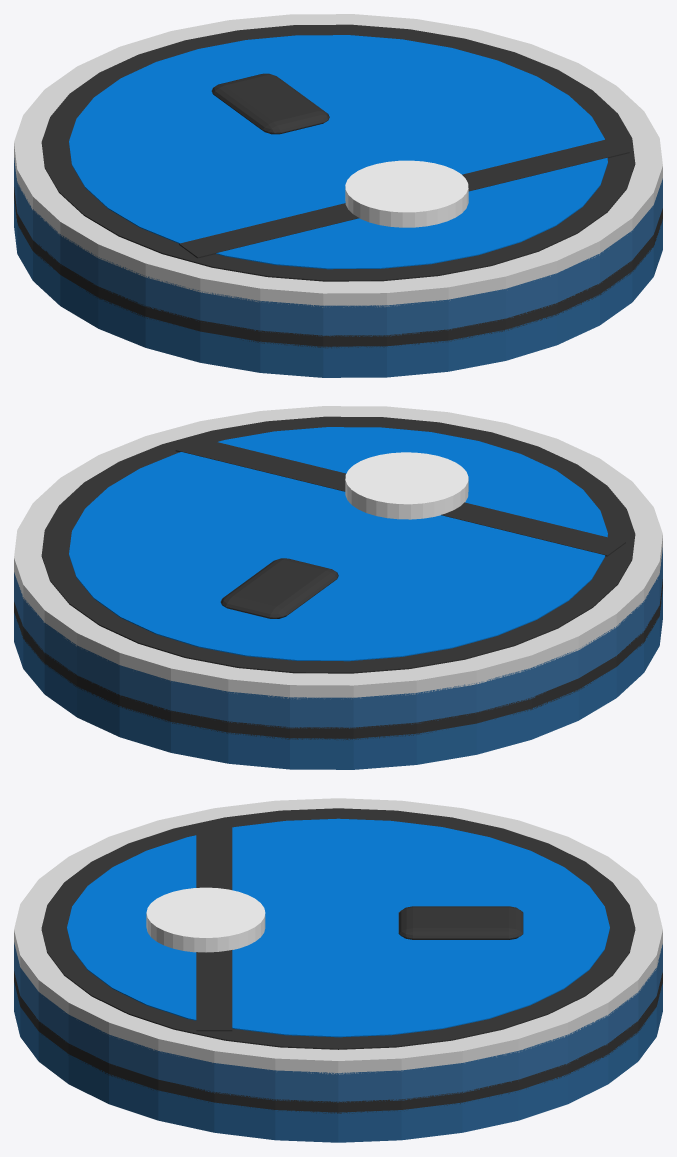
Rendered from Cleaner.fbx.
The picture shows the model from 3 angles, top to bottom: view 1: azimuth 30°, elevation 25°; view 2: azimuth 150°, elevation 25°; view 3: azimuth 270°, elevation 25°; orthographic projection. The views are drawn at different scales.
Visible parts, largest first — view 1: Cylinder.003, Cylinder.004, Cylinder.006, Cylinder, Cylinder.002, Cylinder.001, Cylinder.005, Cube.001, Cube; view 2: Cylinder.003, Cylinder.004, Cylinder.006, Cylinder, Cylinder.002, Cylinder.001, Cylinder.005, Cube.001, Cube; view 3: Cylinder.003, Cylinder.004, Cylinder, Cylinder.006, Cylinder.002, Cylinder.001, Cylinder.005, Cube.001, Cube.
Boxes of the visible parts, bbox=[...] form: Cylinder.003: bbox=[69, 35, 607, 269]; Cylinder.004: bbox=[14, 14, 662, 307]; Cylinder.006: bbox=[41, 24, 635, 281]; Cylinder: bbox=[14, 198, 662, 377]; Cylinder.002: bbox=[14, 158, 662, 336]; Cylinder.001: bbox=[14, 187, 662, 348]; Cylinder.005: bbox=[345, 160, 468, 227]; Cube.001: bbox=[179, 138, 629, 258]; Cube: bbox=[211, 73, 329, 134]; Cylinder.003: bbox=[69, 427, 607, 661]; Cylinder.004: bbox=[14, 406, 662, 699]; Cylinder.006: bbox=[41, 416, 635, 673]; Cylinder: bbox=[14, 589, 662, 769]; Cylinder.002: bbox=[14, 548, 662, 728]; Cylinder.001: bbox=[14, 579, 662, 740]; Cylinder.005: bbox=[345, 452, 468, 519]; Cube.001: bbox=[175, 436, 625, 556]; Cube: bbox=[220, 558, 338, 618]; Cylinder.003: bbox=[67, 818, 609, 1037]; Cylinder.004: bbox=[14, 798, 662, 1074]; Cylinder: bbox=[14, 982, 662, 1142]; Cylinder.006: bbox=[41, 808, 635, 1049]; Cylinder.002: bbox=[14, 942, 662, 1102]; Cylinder.001: bbox=[14, 971, 662, 1113]; Cylinder.005: bbox=[146, 887, 265, 952]; Cube.001: bbox=[196, 826, 232, 1031]; Cube: bbox=[398, 906, 523, 939].
Bounding box in the file's own units: 379 × 66.15 × 395.
